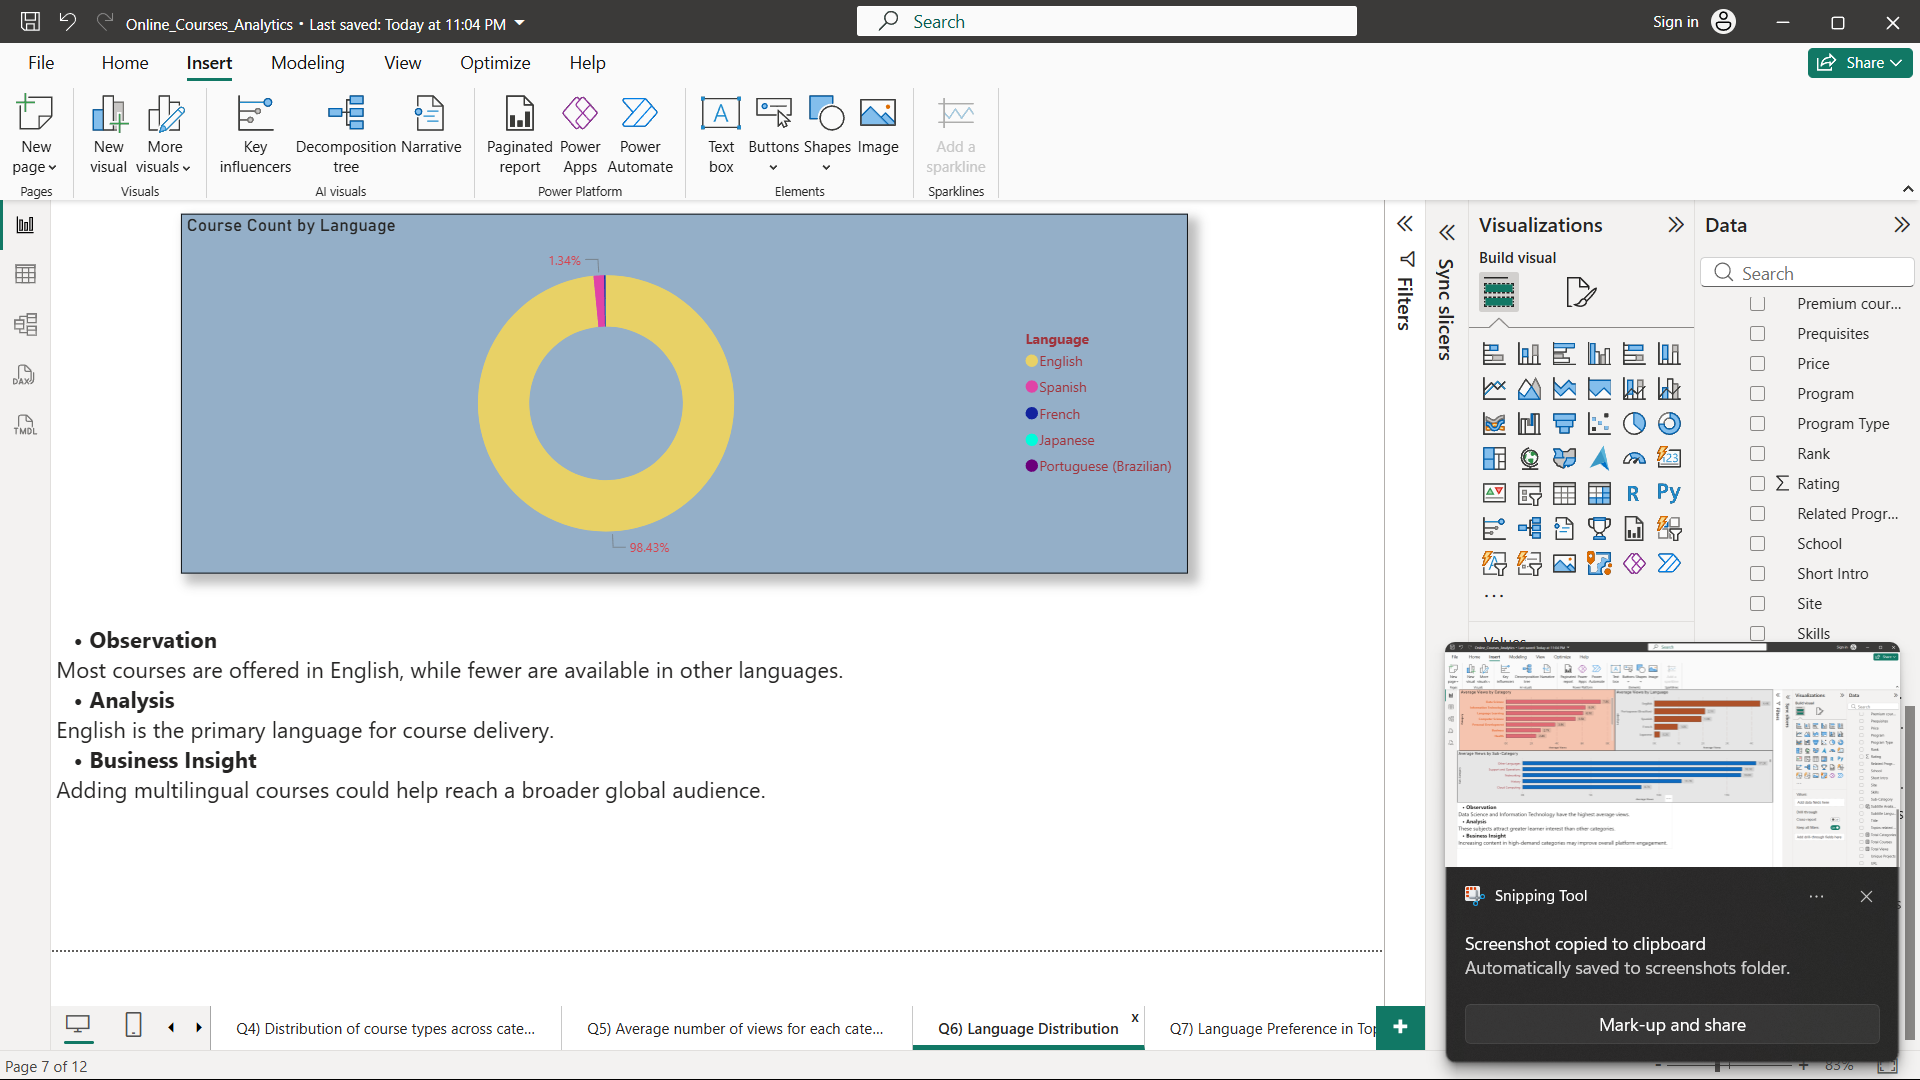

Layout of this report page (visuals, bound fields, positions):
{"tool":"powerbi","page":{"name":"Q6) Language Distribution","canvas":[1280,720],"ordinal":6},"visuals":[{"type":"donutChart","fields":{"Category":["Online_Courses.Language"],"Y":["Online_Courses.Course Count"]},"box":[124.9,13.7,967.4,345.8],"z":0},{"type":"textbox","box":[0,402.1,769.8,189.4],"z":1000}]}

Visuals, with their boxes on the page's 1280x720 design canvas (x1, y1, x2, y2). These are canvas units, not pixel positions in the 1920x1080 screenshot, which may show the page scaled, cropped or inside an application window:
donutChart - Online_Courses.Language x Online_Courses.Course Count: BBox(125, 14, 1092, 360)
textbox: BBox(0, 402, 770, 592)
